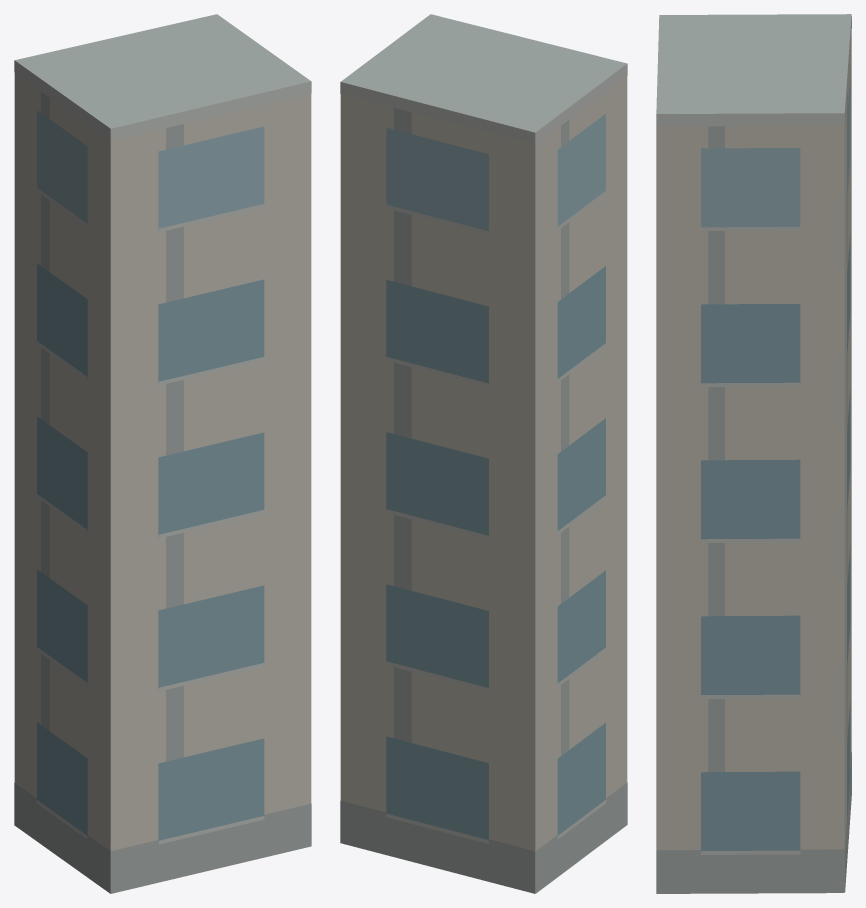
File: survey-upis-32633957.glb
3 views of the same model, side by side, from view 1: azimuth 30°, elevation 25°; view 2: azimuth 150°, elevation 25°; view 3: azimuth 270°, elevation 25° (orthographic). The views are drawn at different scales.
Visible parts, largest first — view 1: survey-upis-32633957.tmp; view 2: survey-upis-32633957.tmp; view 3: survey-upis-32633957.tmp.
Boxes of the visible parts, left/top/right/bottom form: survey-upis-32633957.tmp: left=14, top=14, right=311, bottom=893; survey-upis-32633957.tmp: left=340, top=14, right=627, bottom=893; survey-upis-32633957.tmp: left=656, top=14, right=851, bottom=893.
Bounding box in the file's own units: 4.21 × 15.25 × 3.47.
